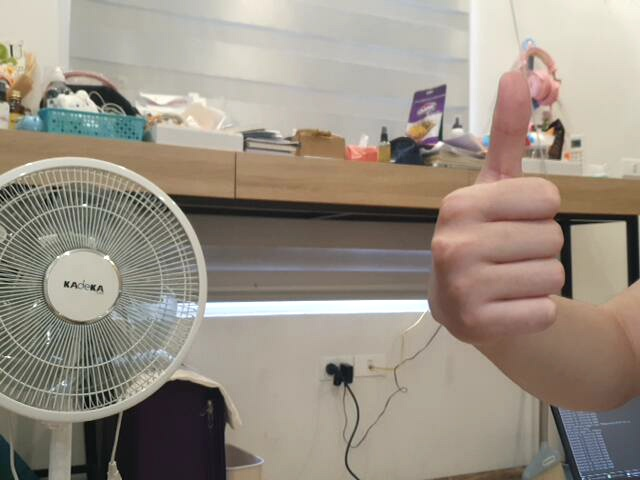ThumbsUp: (426, 69, 567, 348)
